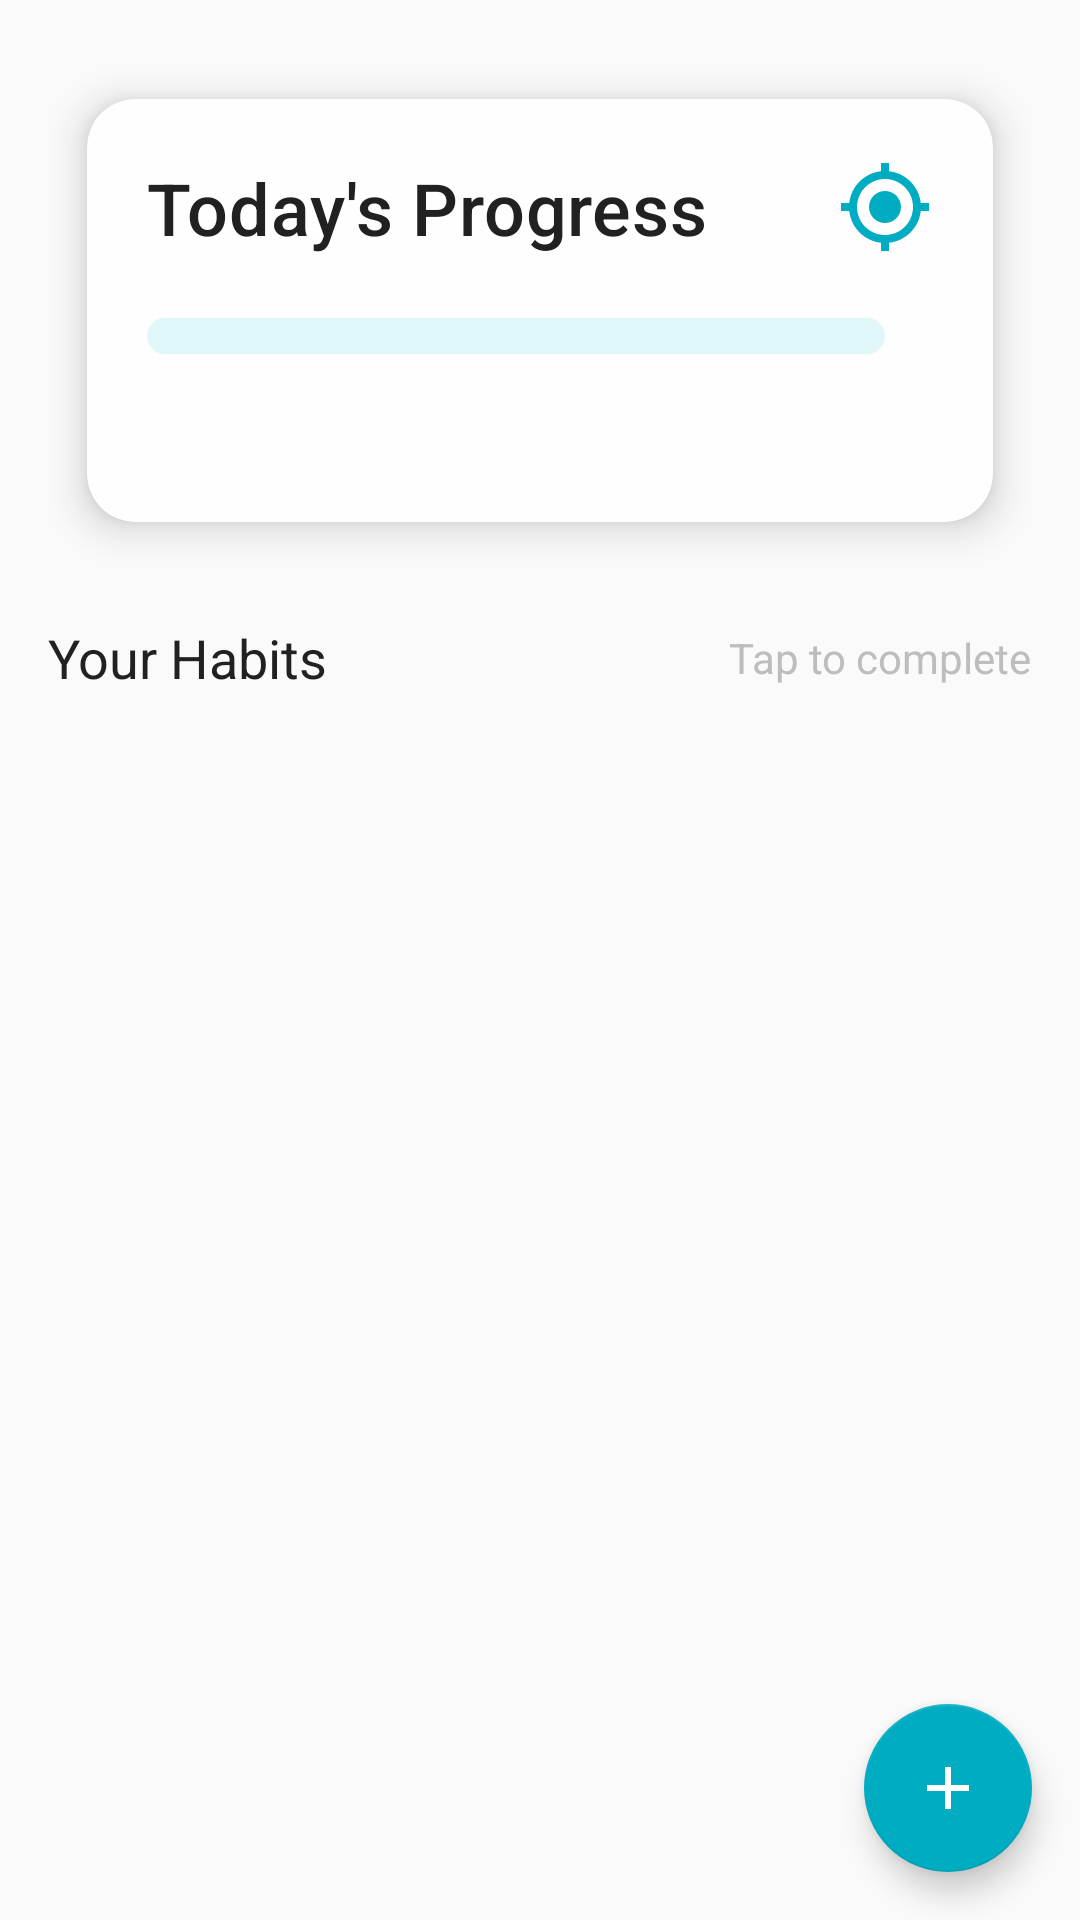

Icon click points for this 1080x1920 phone screenshot, format (x=x, y=y):
Add new habit: (x=948, y=1788)
target: (x=885, y=207)
